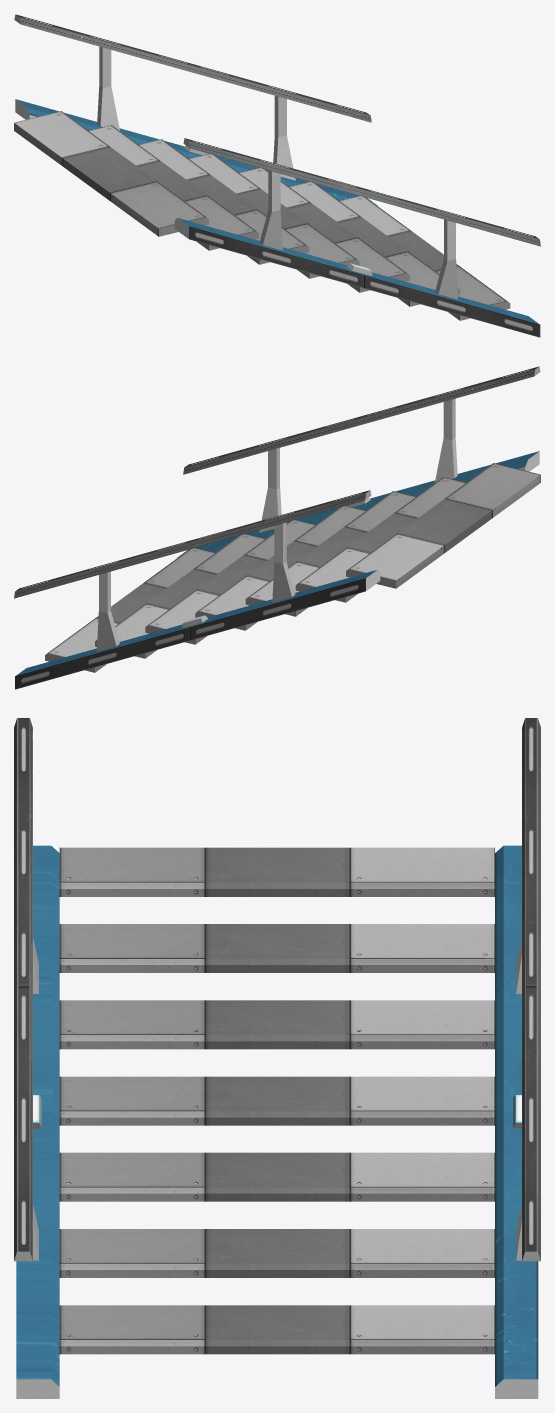
The model's file is Stair_7_Step_01.FBX.
3 renders of one model, top to bottom at view 1: azimuth 30°, elevation 25°; view 2: azimuth 150°, elevation 25°; view 3: azimuth 270°, elevation 25°, orthographic. The views are drawn at different scales.
Visible parts, largest first — view 1: Stair_7_Step_01; view 2: Stair_7_Step_01; view 3: Stair_7_Step_01.
Part boxes in pixels (bbox=[...]): Stair_7_Step_01: bbox=[14, 14, 540, 337]; Stair_7_Step_01: bbox=[14, 366, 540, 689]; Stair_7_Step_01: bbox=[14, 718, 540, 1398].
Size of the model in its own units: 146 by 107 by 121.
